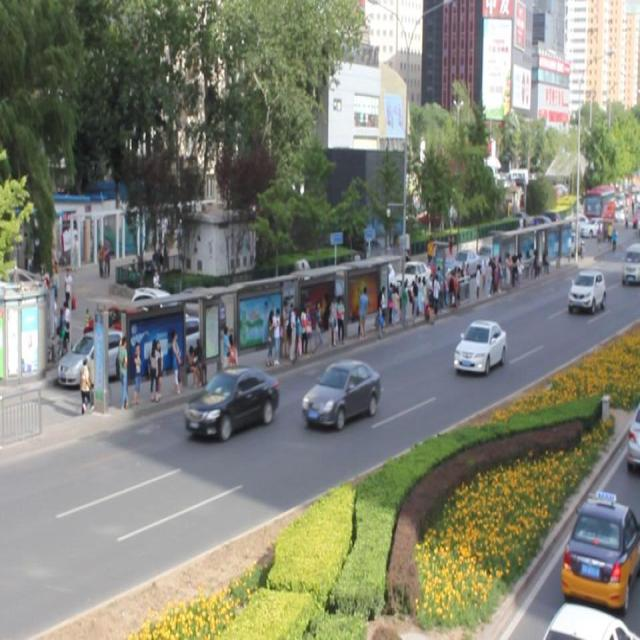car: (183, 366, 278, 436), (302, 360, 377, 427), (452, 319, 504, 376), (567, 270, 603, 314)
